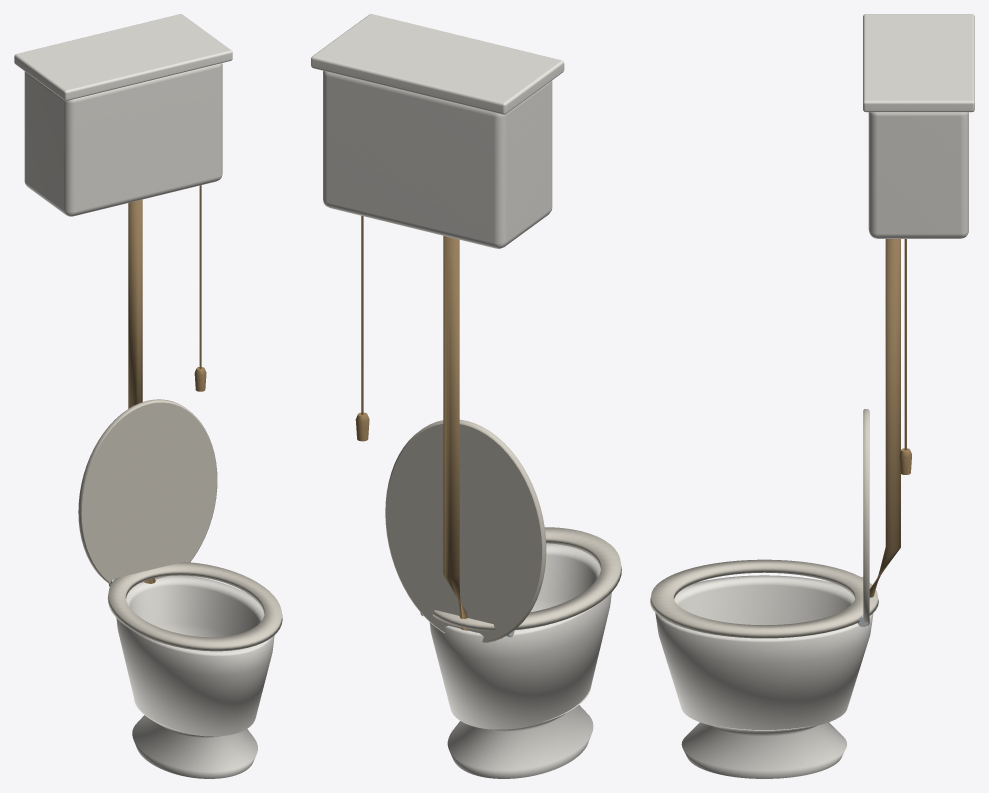
The picture shows the model from 3 angles, left to right: view 1: azimuth 30°, elevation 25°; view 2: azimuth 150°, elevation 25°; view 3: azimuth 270°, elevation 25°; orthographic projection. The views are drawn at different scales.
Visible parts, largest first — view 1: WC | high cistern, WC | raised lid, WC | open sanitary bowl, WC | cistern lid, WC | separate seat ring, WC | ceramic pedestal, WC | exposed flush pipe, WC | pull chain; view 2: WC | high cistern, WC | raised lid, WC | open sanitary bowl, WC | cistern lid, WC | ceramic pedestal, WC | exposed flush pipe, WC | separate seat ring, WC | pull chain; view 3: WC | open sanitary bowl, WC | high cistern, WC | cistern lid, WC | ceramic pedestal, WC | separate seat ring, WC | exposed flush pipe, WC | raised lid, WC | pull chain.
Boxes of the visible parts, x1=… form: WC | high cistern: x1=24, y1=63, x2=222, y2=216; WC | raised lid: x1=78, y1=399, x2=217, y2=584; WC | open sanitary bowl: x1=116, y1=575, x2=274, y2=736; WC | cistern lid: x1=14, y1=14, x2=232, y2=100; WC | separate seat ring: x1=107, y1=562, x2=282, y2=651; WC | ceramic pedestal: x1=132, y1=699, x2=257, y2=778; WC | exposed flush pipe: x1=128, y1=199, x2=155, y2=583; WC | pull chain: x1=199, y1=185, x2=201, y2=368; WC | high cistern: x1=323, y1=71, x2=552, y2=248; WC | raised lid: x1=385, y1=419, x2=546, y2=643; WC | open sanitary bowl: x1=429, y1=543, x2=611, y2=729; WC | cistern lid: x1=311, y1=14, x2=564, y2=114; WC | ceramic pedestal: x1=447, y1=685, x2=593, y2=778; WC | exposed flush pipe: x1=443, y1=236, x2=467, y2=630; WC | separate seat ring: x1=432, y1=527, x2=621, y2=630; WC | pull chain: x1=361, y1=216, x2=363, y2=414; WC | open sanitary bowl: x1=655, y1=575, x2=873, y2=731; WC | high cistern: x1=868, y1=112, x2=968, y2=238; WC | cistern lid: x1=863, y1=14, x2=974, y2=112; WC | ceramic pedestal: x1=681, y1=722, x2=846, y2=778; WC | separate seat ring: x1=650, y1=559, x2=878, y2=638; WC | exposed flush pipe: x1=869, y1=239, x2=900, y2=597; WC | raised lid: x1=863, y1=409, x2=869, y2=625; WC | pull chain: x1=904, y1=239, x2=906, y2=450.
Bounding box in the file's own units: 0.523 × 1.92 × 0.8096.
Materials: 6 (6 with a texture image).
